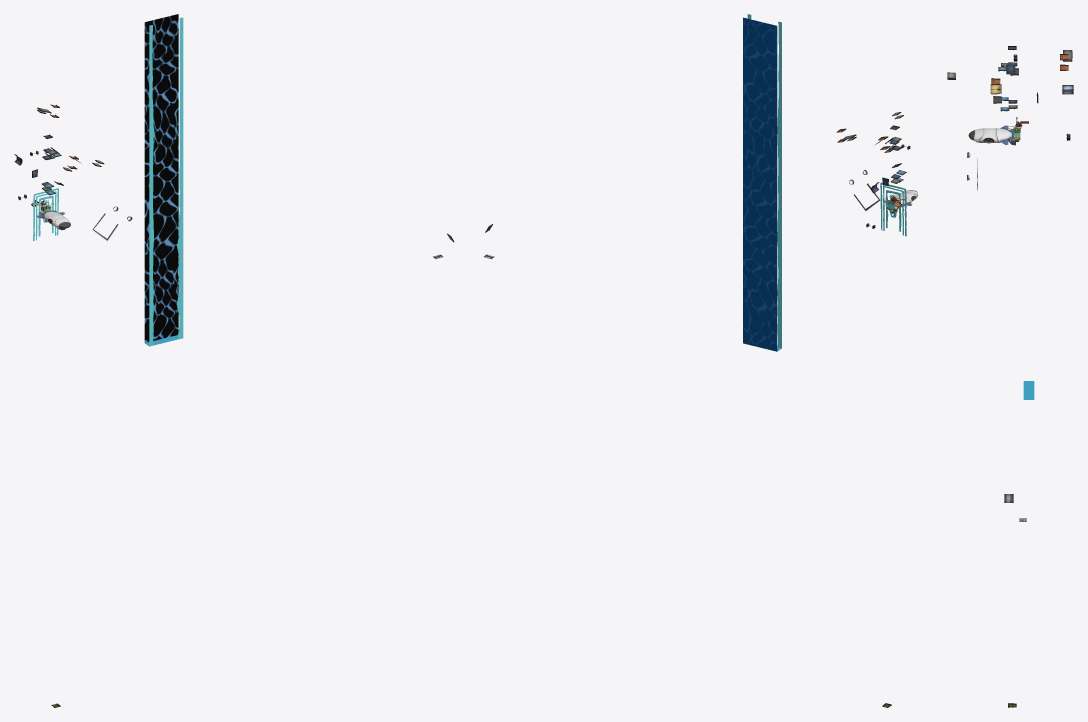
File: Plaza_Props.fbx
3 views of the same model, side by side, from view 1: azimuth 30°, elevation 25°; view 2: azimuth 150°, elevation 25°; view 3: azimuth 270°, elevation 25° (orthographic). The views are drawn at different scales.
Visible parts, largest first — view 1: Plaza_Waterplane03__1, Plaza_WaterEdge2__1; view 2: Plaza_Waterplane04__1, Plaza_WaterEdge__1; view 3: Plaza_Amazing4Rocket__1, Plaza_CanalFront__1.
Part boxes in pixels (box(x1,y1,x2,y2)): Plaza_Waterplane03__1: box(144, 14, 178, 342); Plaza_WaterEdge2__1: box(149, 17, 183, 346); Plaza_Waterplane04__1: box(743, 17, 777, 351); Plaza_WaterEdge__1: box(747, 14, 781, 348); Plaza_Amazing4Rocket__1: box(968, 125, 1015, 145); Plaza_CanalFront__1: box(1023, 381, 1034, 399).
Bounding box in the file's own units: 506 × 753 × 116.
134 materials, 125 textured.
